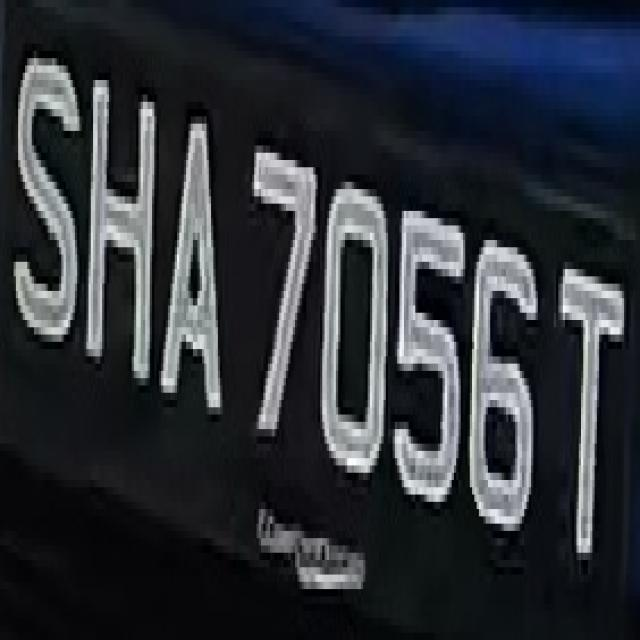0: (320, 160, 397, 495)
5: (400, 167, 468, 538)
6: (465, 196, 540, 538)
7: (243, 109, 315, 444)
A: (159, 95, 225, 429)
H: (93, 36, 161, 378)
S: (16, 58, 84, 342)
T: (554, 218, 626, 560)
